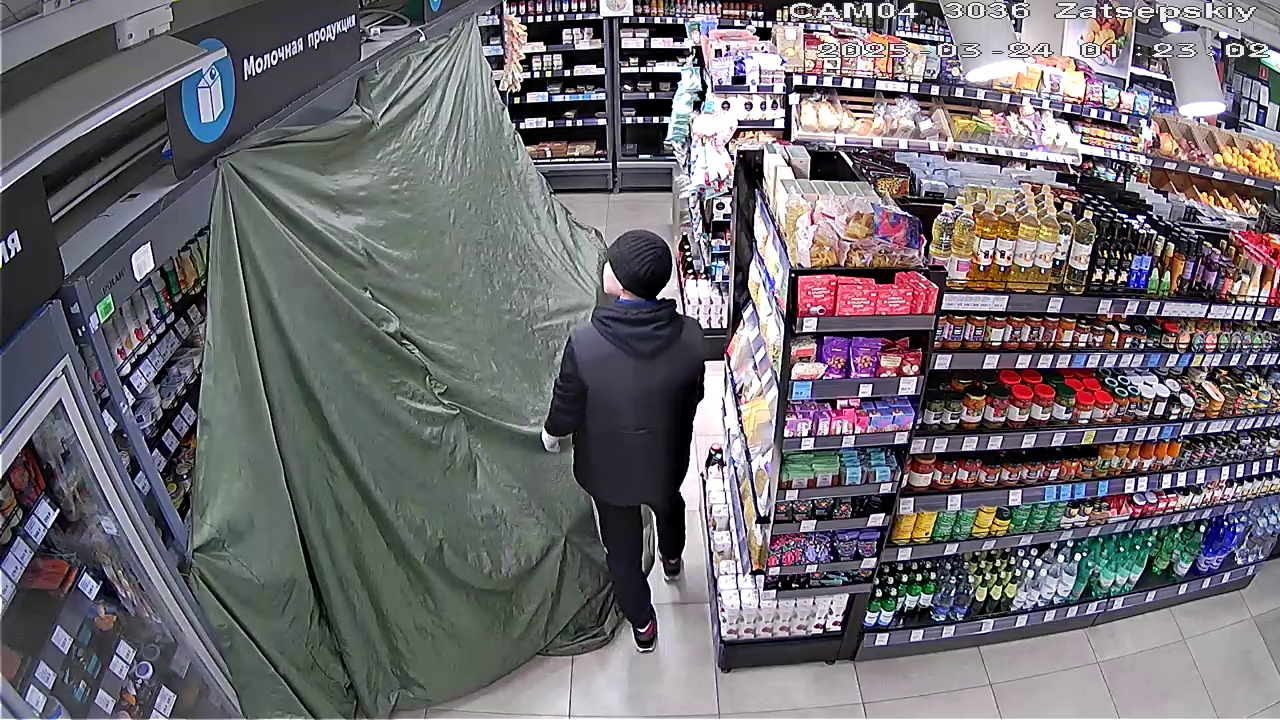Human: (541, 222, 722, 644)
dome: (201, 33, 616, 711)
